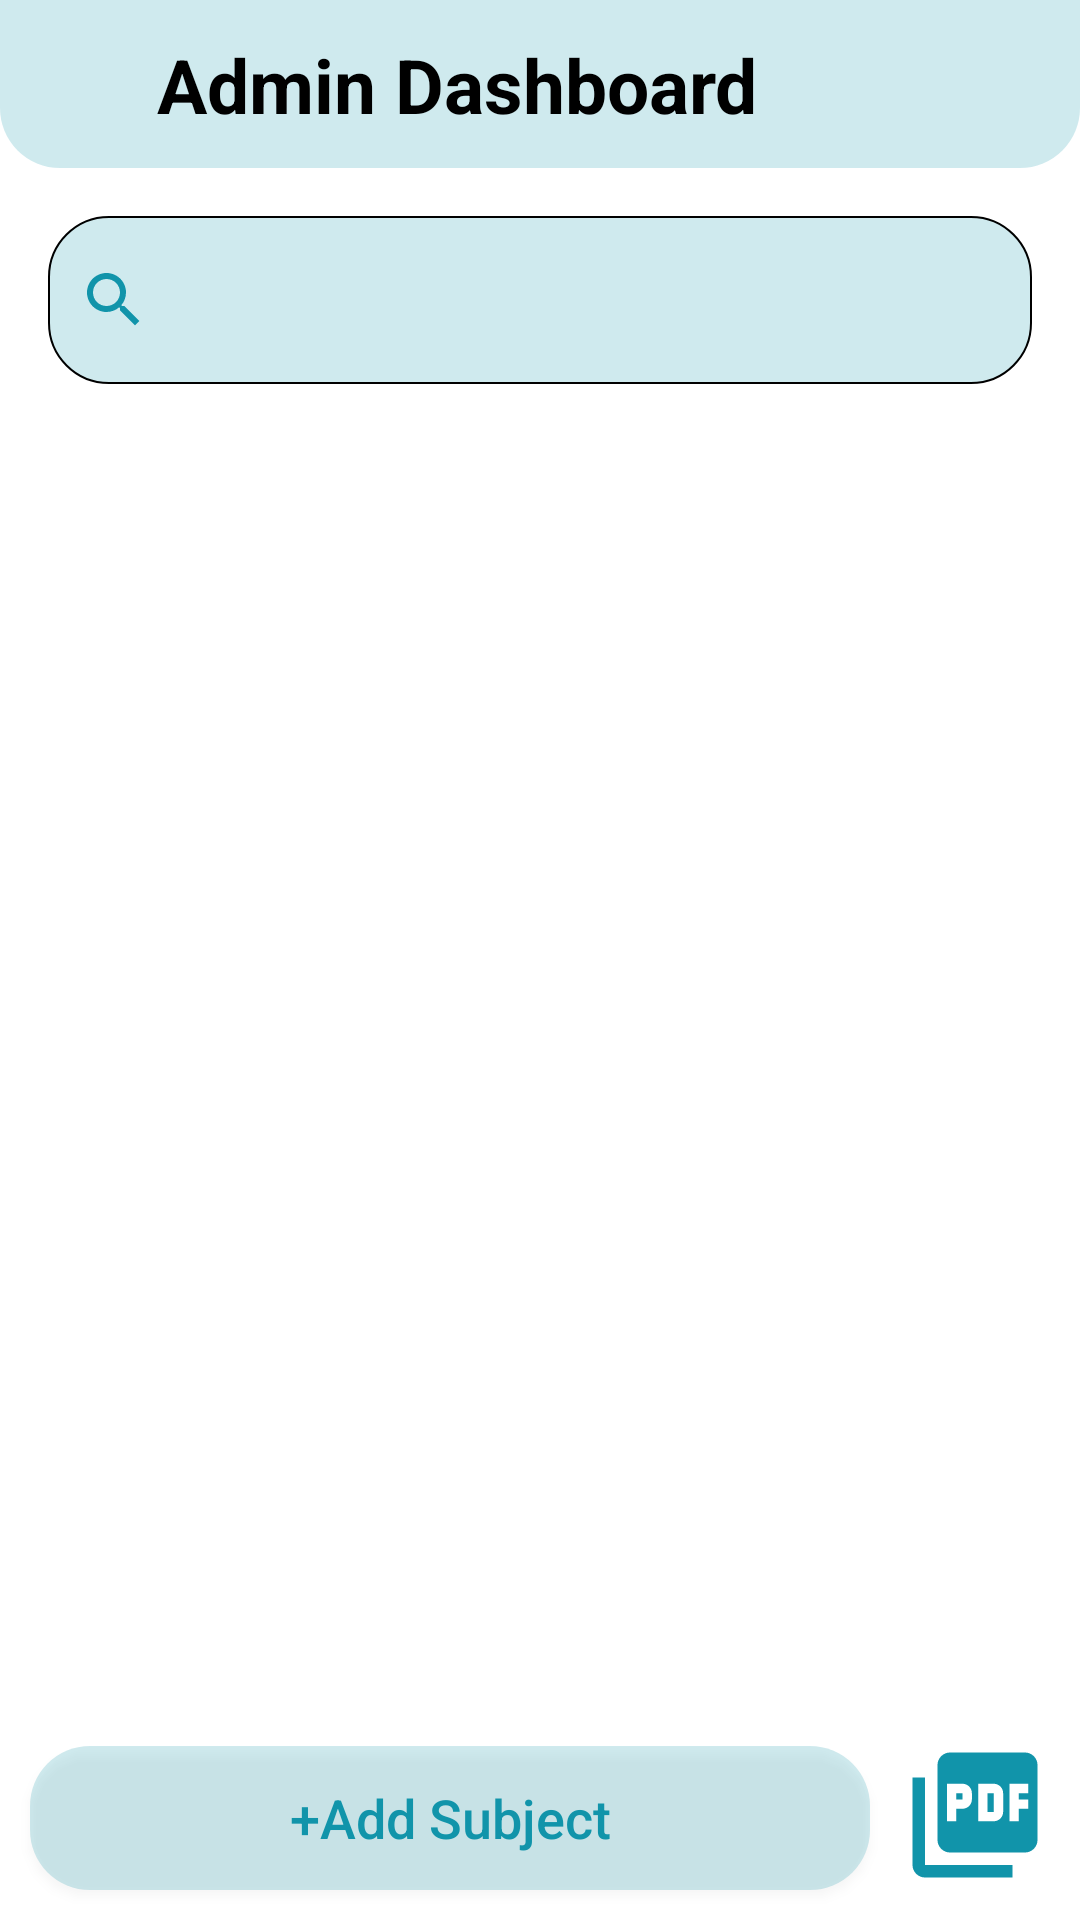

Screen size 1080x1920. Icon name, then its center in pixels as (x,y):
Add Pdf Button: (975,1815)
